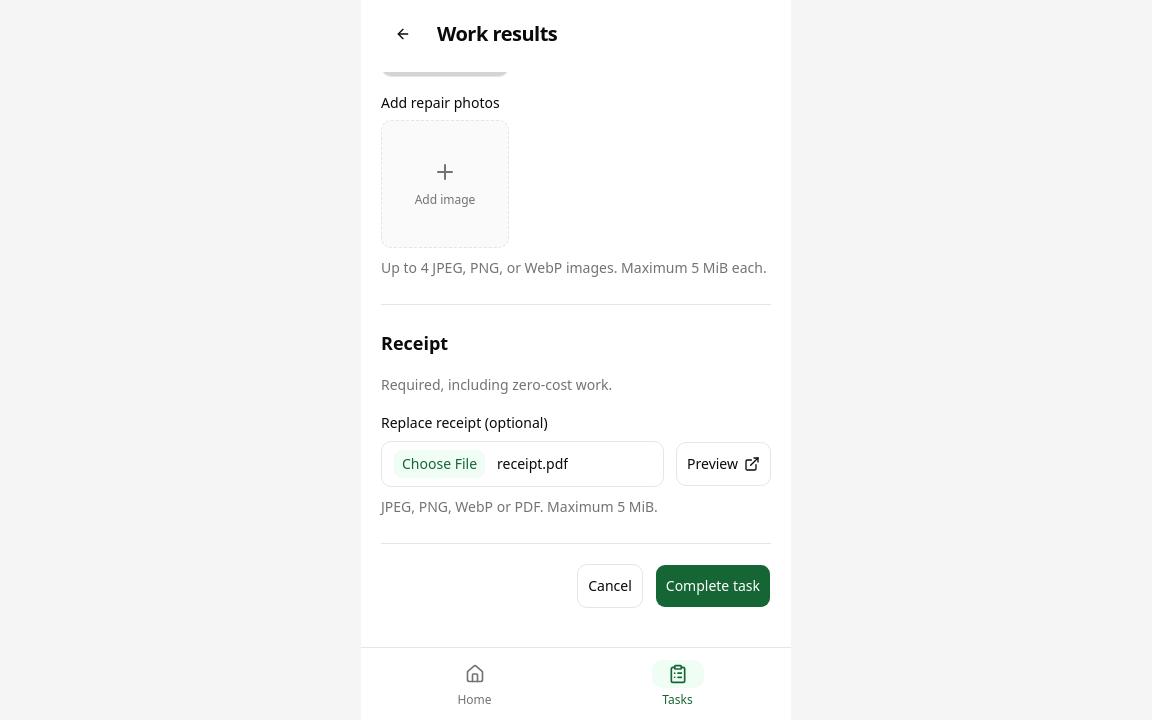
Scenario: prefills saved results/costs, shows saved attachments, and accepts an existing receipt
(page scrolled)
What coordinates should you click on to do the following:
click the button "Complete task"
I would click on:
 (713, 586)
Its box is x1=655 y1=564 x2=771 y2=608.
(page scrolled)
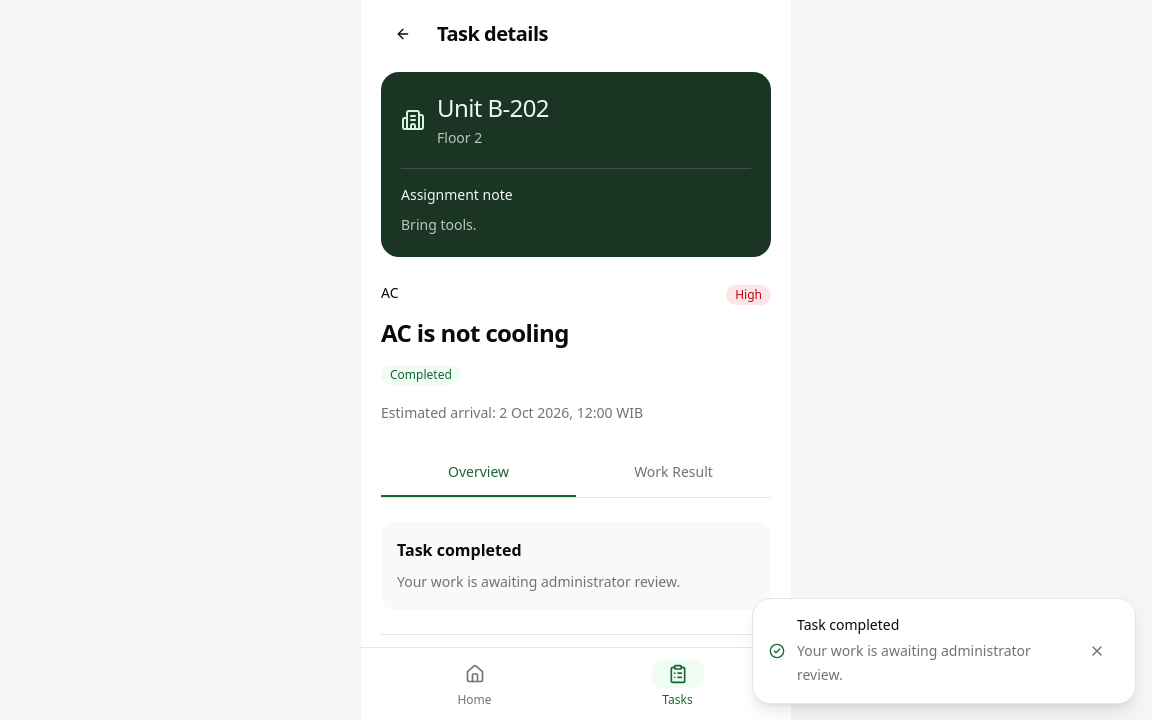
Result: the element named "Completion summary" is shown at x1=381 y1=522 x2=771 y2=610
